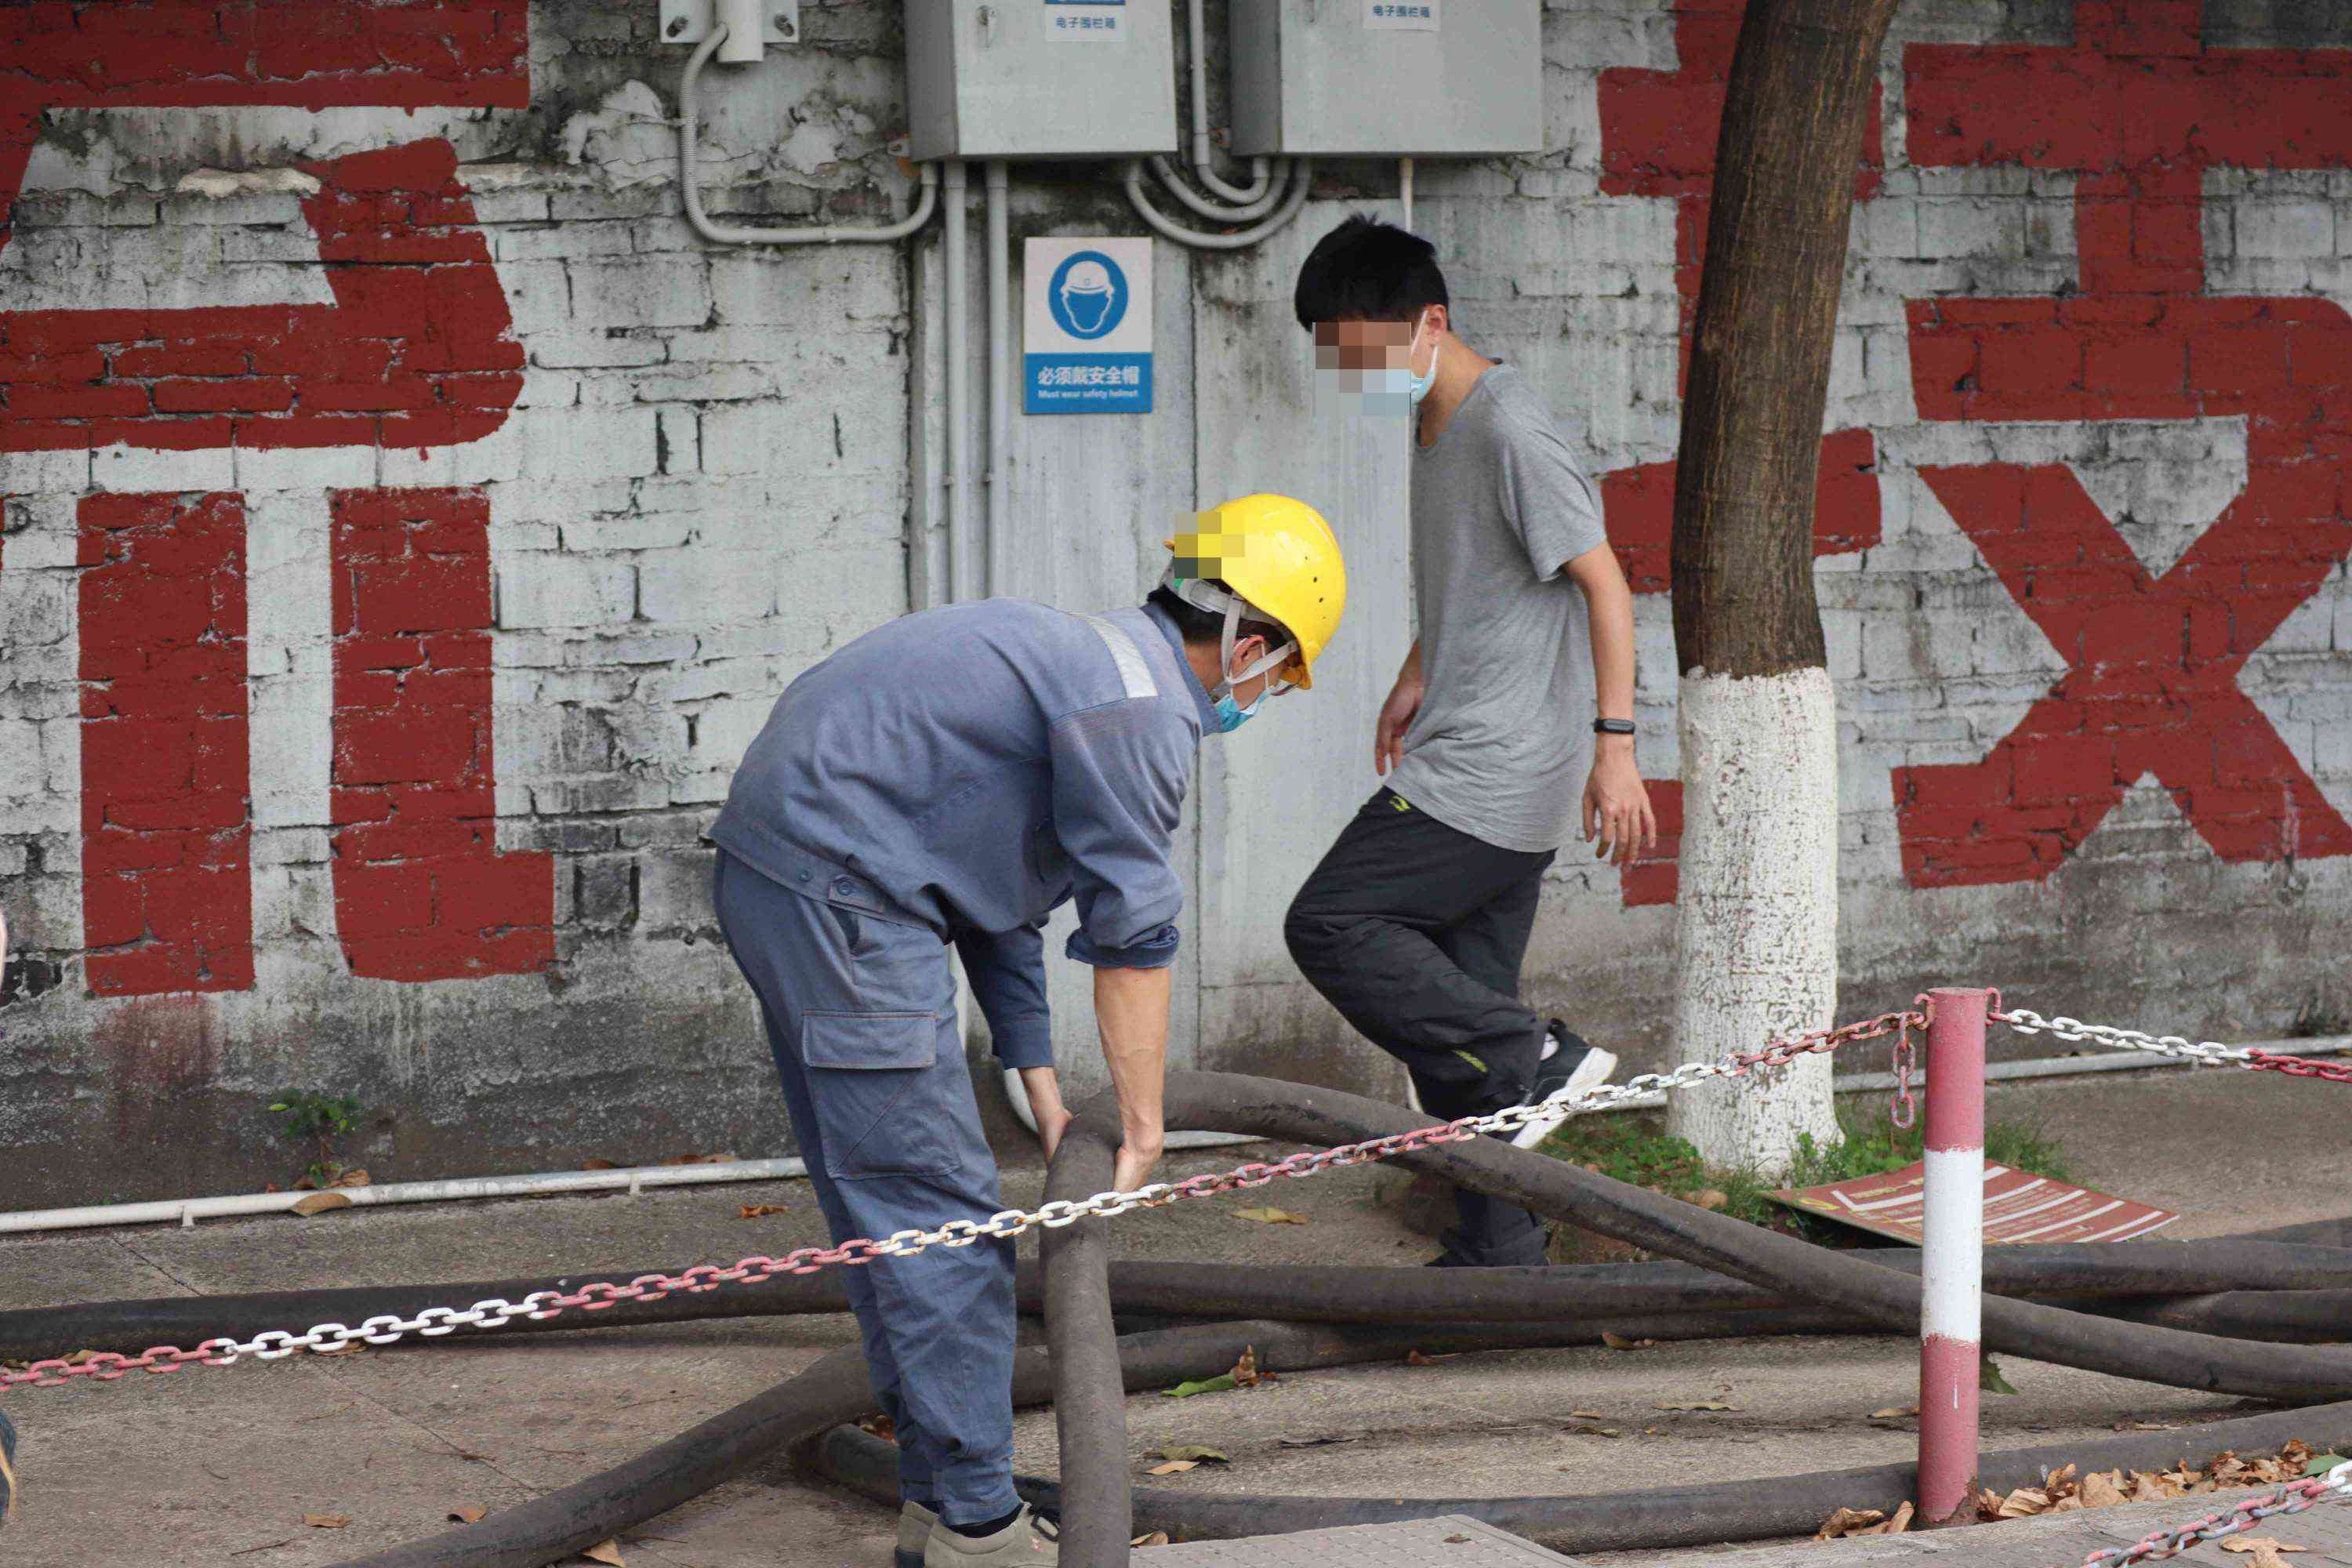downcloth: (1293, 805, 1587, 1239)
downsuit: (691, 868, 1043, 1528)
upcloth: (1388, 373, 1647, 843)
upsuit: (705, 579, 1216, 955)
wrongtop: (1069, 903, 1199, 1190)
